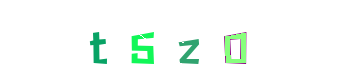0: (194, 0, 274, 80)
5: (140, 0, 220, 80)
T: (102, 0, 182, 80)
Z: (166, 0, 246, 80)
